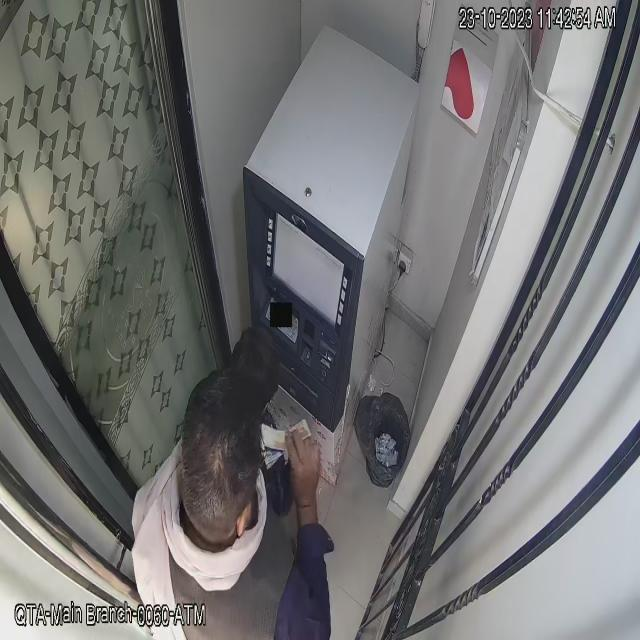note: (261, 410, 313, 457)
